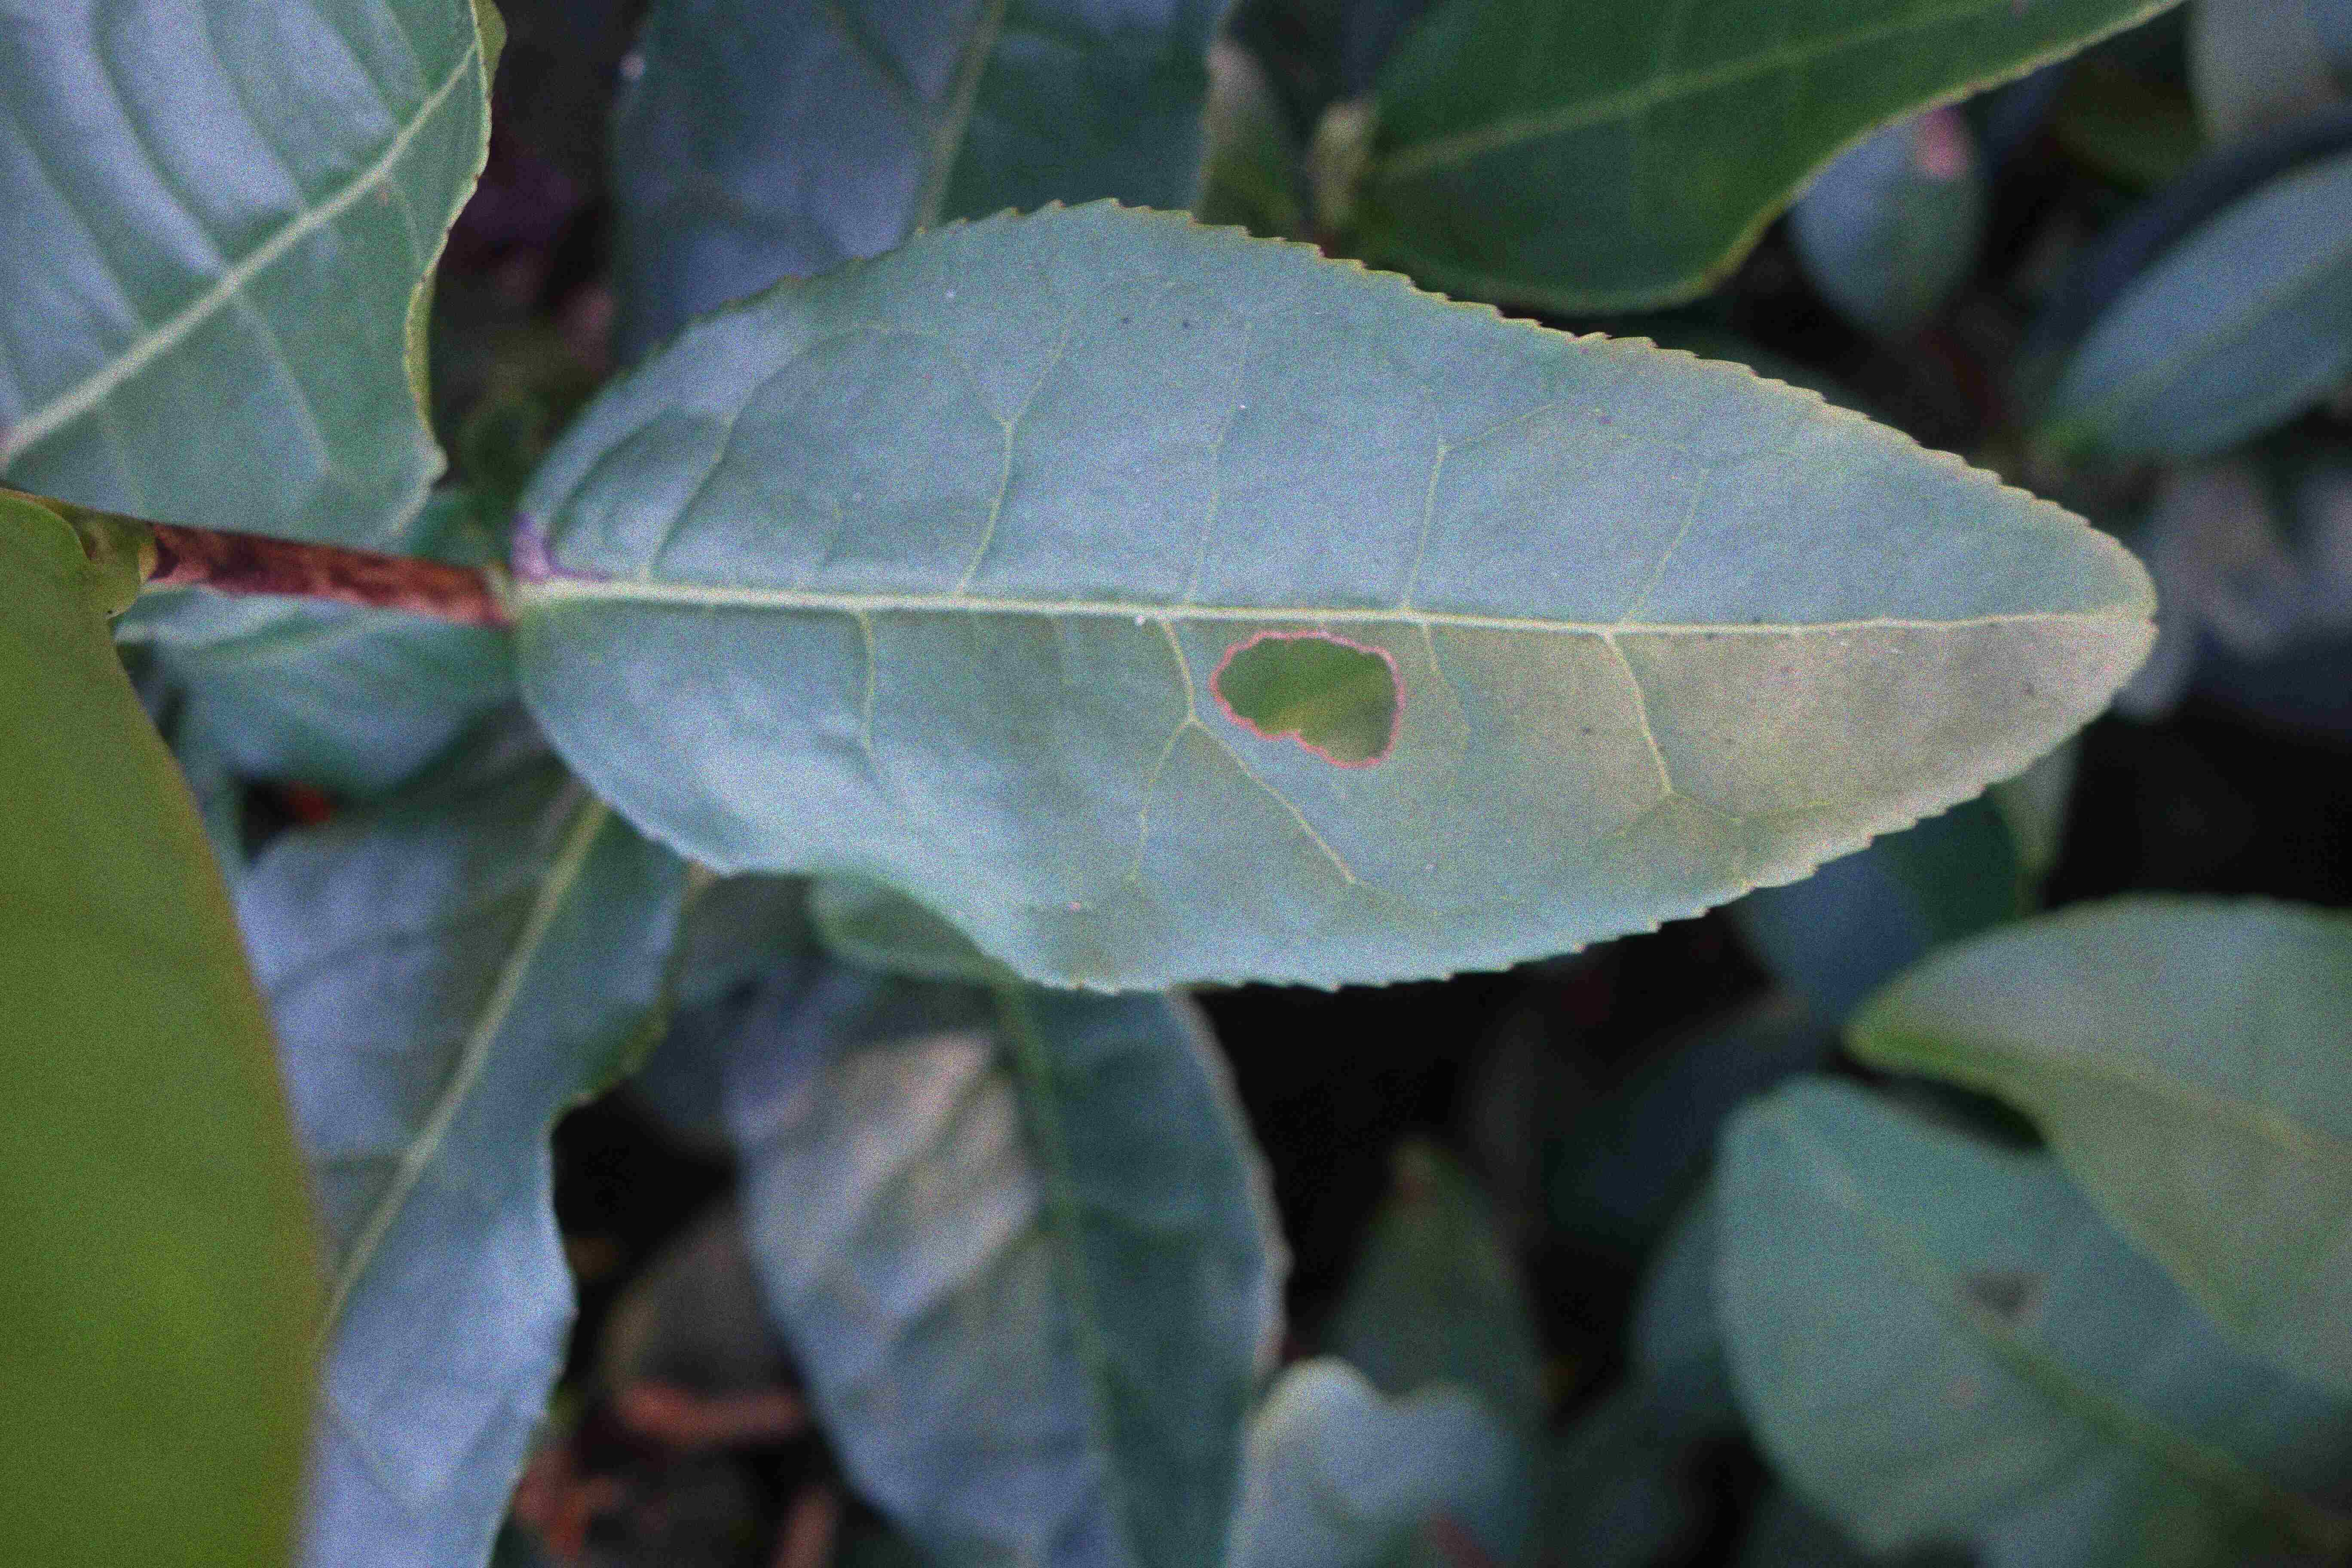chihuo_low: (513, 198, 2161, 999)
